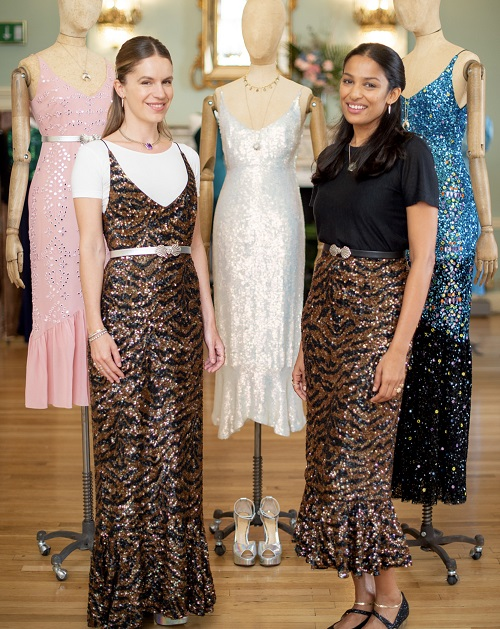person: (54, 30, 230, 626), (286, 41, 422, 629)
person-like: (200, 1, 341, 439), (381, 1, 492, 513), (2, 1, 130, 414)
